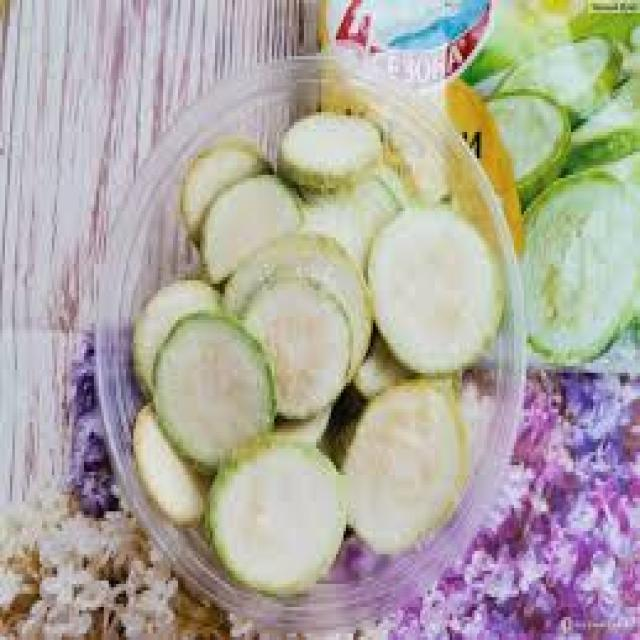vegetable marrow: (120, 101, 507, 587), (494, 38, 640, 368)
